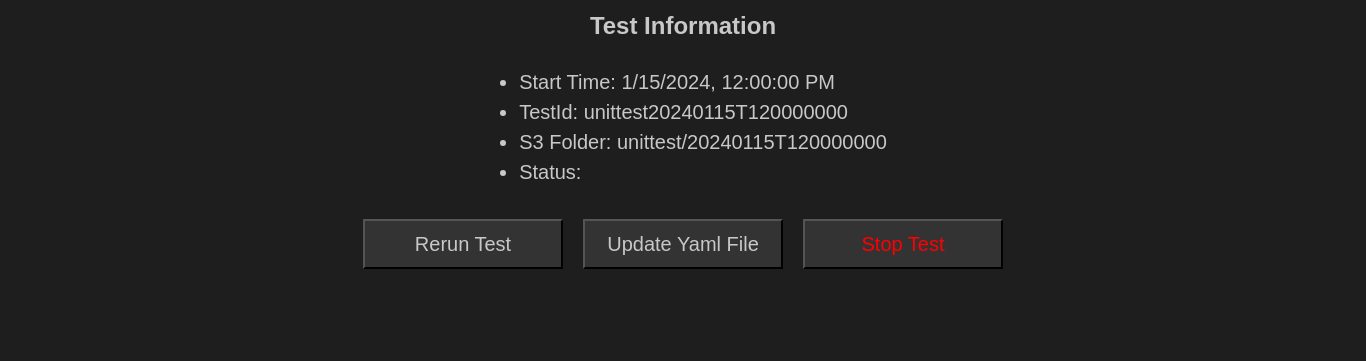
Test case: TestInfo Component › interactions › shows an error when stop is confirmed but the response is not a TestManagerMessage
The width and height of the screenshot is (1366, 361).
Click the button "Stop Test" at (903, 244), box left=803, top=219, right=1003, bottom=269
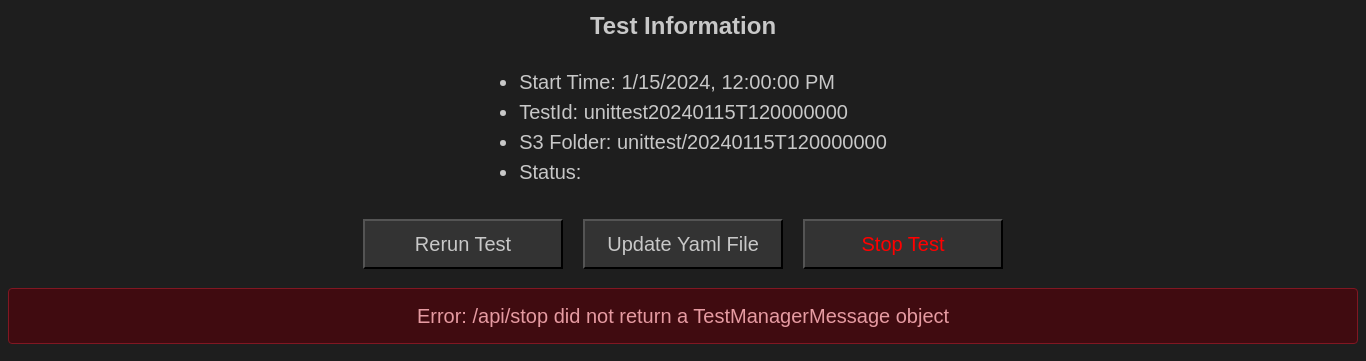
expect the text "Error: /api/stop did not return a TestManagerMessage object" is shown: met, box left=8, top=288, right=1358, bottom=344
